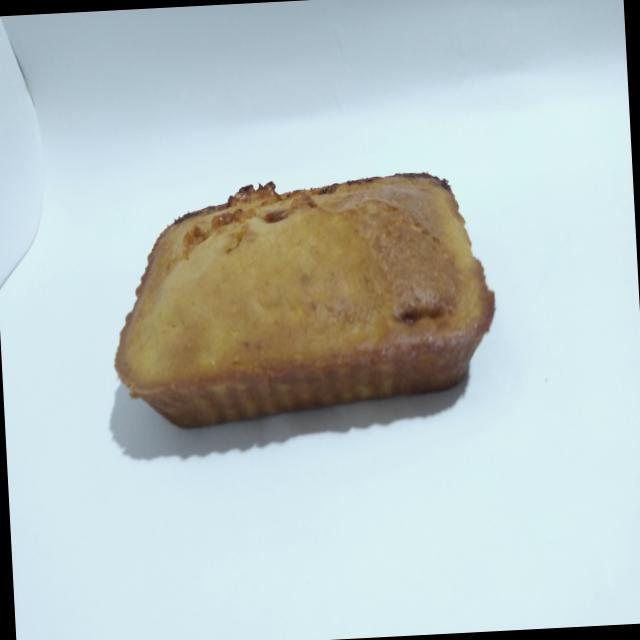Sopa: (98, 162, 510, 444)
